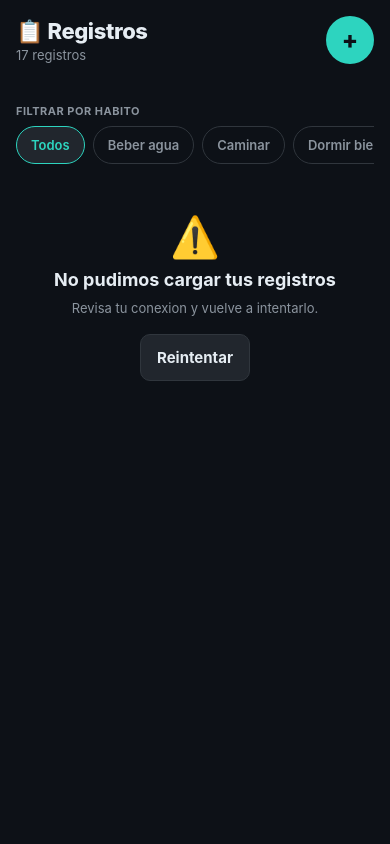
Pantalla Registros › Reintentar vuelve a pedir los registros
Click the button "Reintentar" at point(195, 358), box [140, 334, 250, 381]
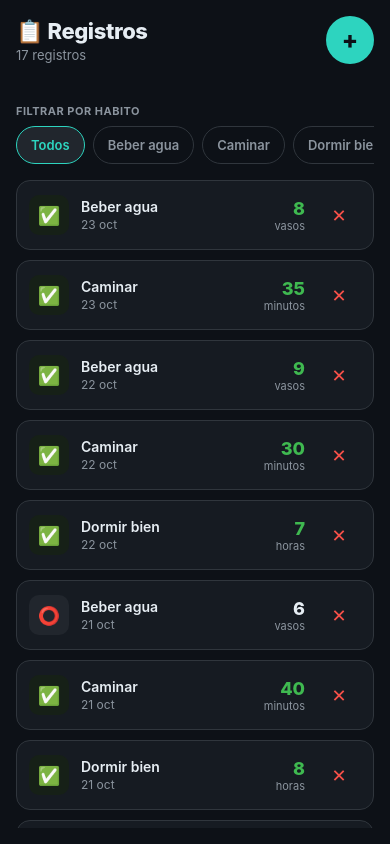
Expected: the text "Beber agua" next to "Todos" is shown, [108, 137, 179, 153]
Expected: the text "No pudimos cargar tus registros" is gone
